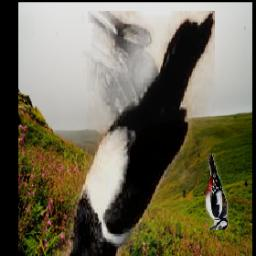Crow: (52, 11, 215, 256)
Woodpecker: (205, 153, 228, 230)
